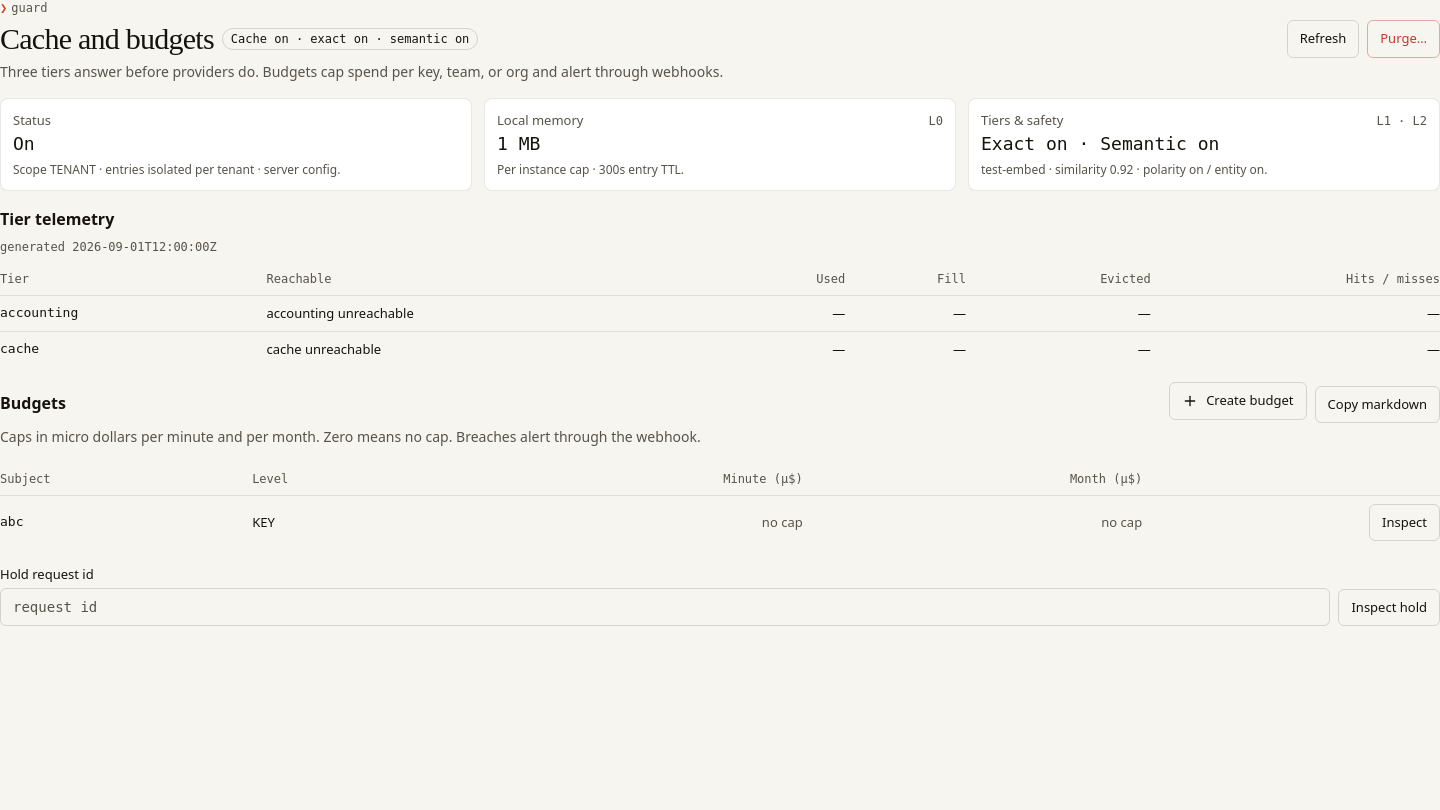
Test case: CachePage › disambiguates zero spend from zero cap
Click the button with aria-label "inspect budget abc". click: (1405, 523)
box: [1369,504,1439,541]
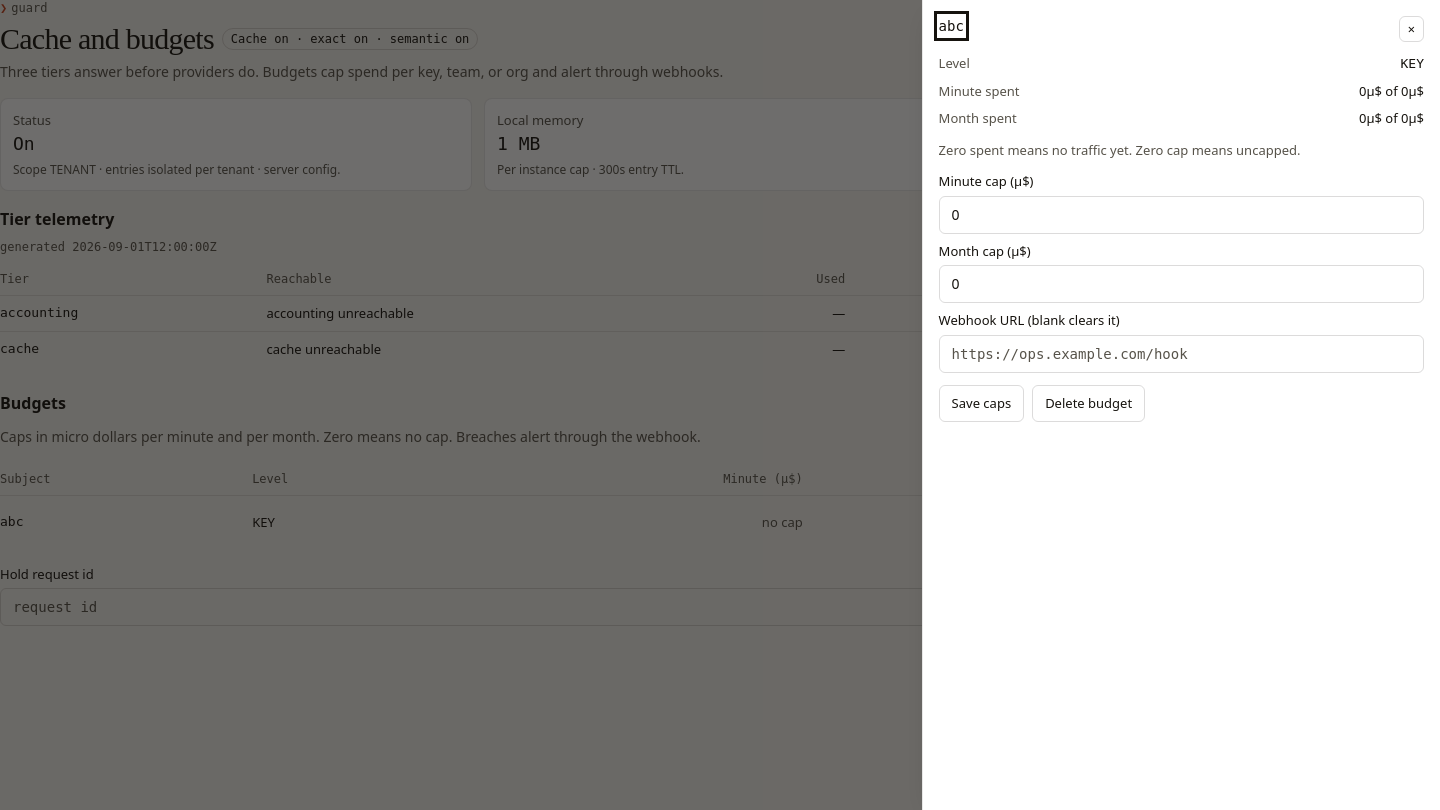
Now the text "Zero spent means no traffic yet. Zero cap means uncapped." is shown, box [939,140,1300,158]
